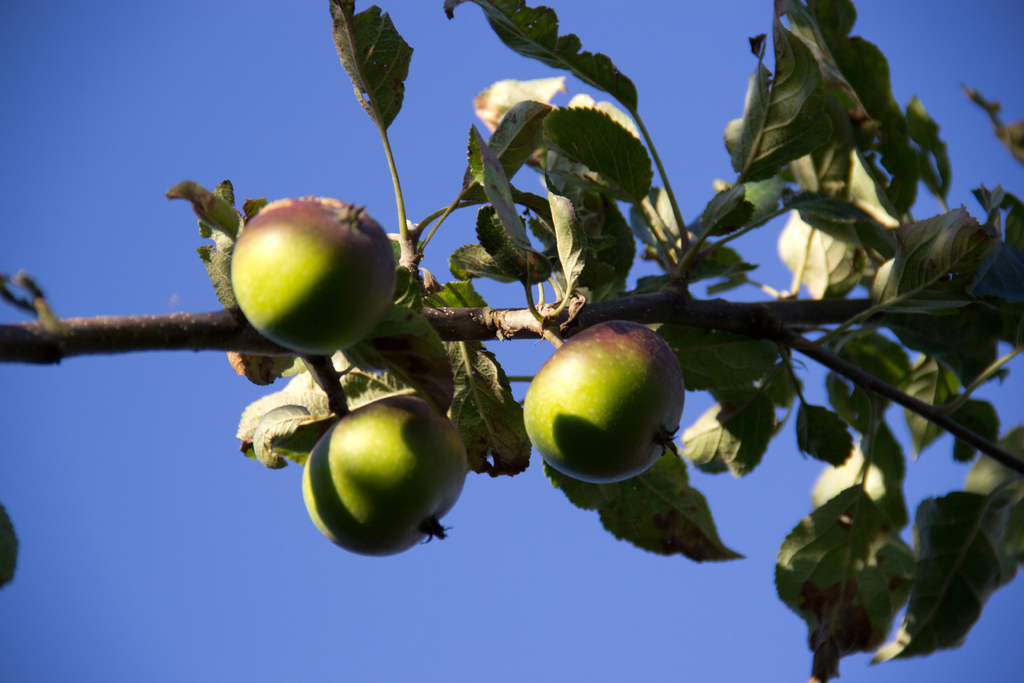Apple: (227, 191, 401, 353), (301, 396, 471, 560), (519, 324, 690, 486)
